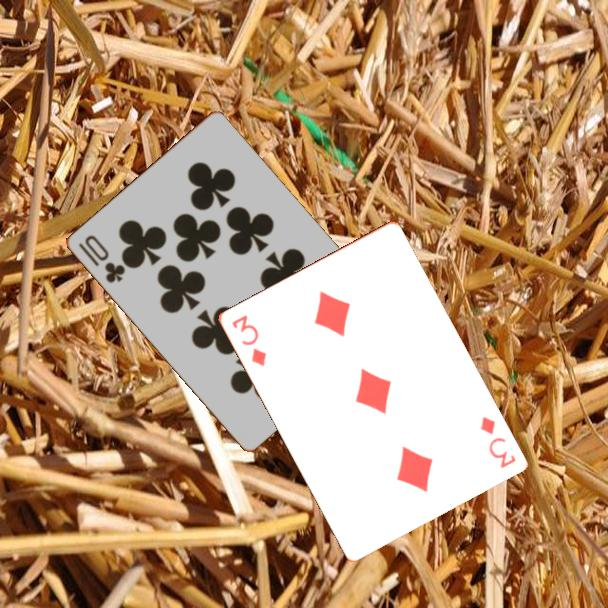c10: (74, 231, 128, 286)
d03: (476, 412, 518, 471), (227, 311, 269, 369)
